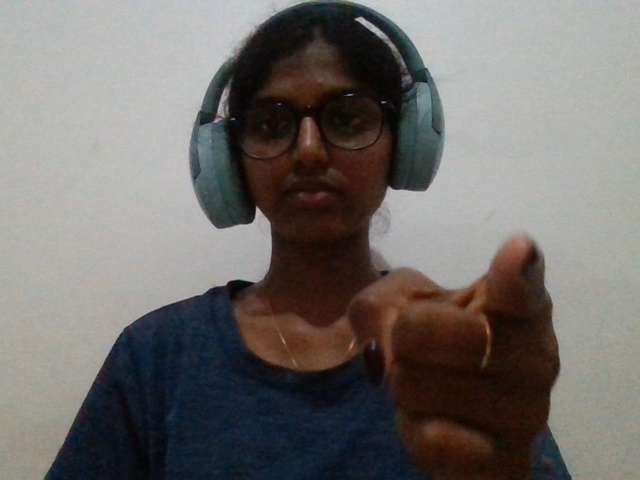You: (309, 218, 639, 478)
